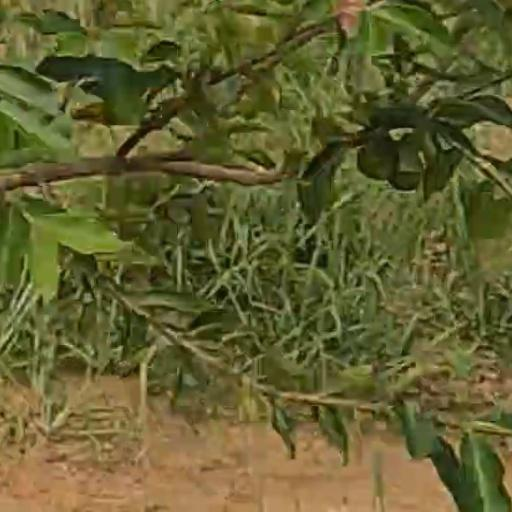acerola: (360, 142, 392, 177), (395, 150, 419, 190), (340, 1, 360, 33)
